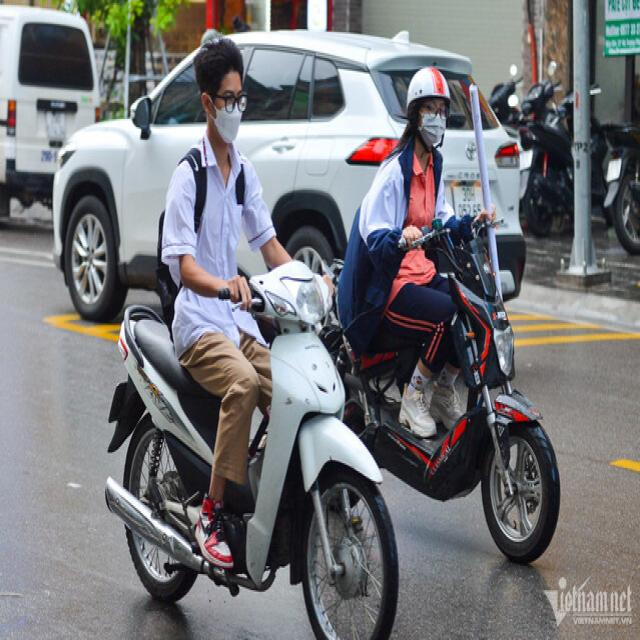no_helmet: (188, 25, 257, 158)
